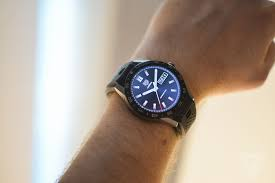clock: (131, 66, 181, 113)
